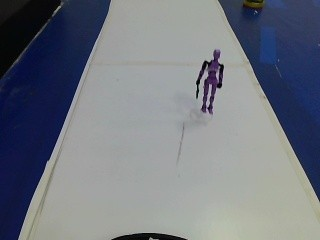pedestrian: (191, 45, 231, 122)
